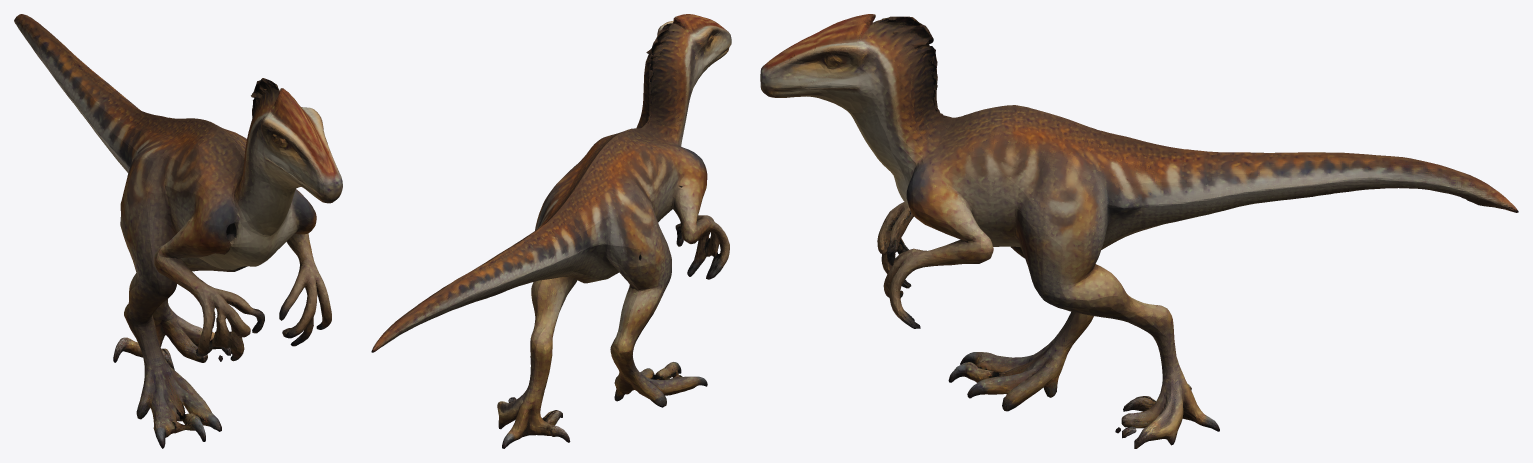
3 views of the same model, side by side, from view 1: azimuth 30°, elevation 25°; view 2: azimuth 150°, elevation 25°; view 3: azimuth 270°, elevation 25° (orthographic). The views are drawn at different scales.
Parts seen in each view (by area): view 1: world; view 2: world; view 3: world.
Boxes of the visible parts, x1,y1,x2,y2 form: world: (14, 14, 342, 448); world: (371, 14, 731, 448); world: (760, 14, 1518, 448).
Size of the model in its own units: 0.756 by 1.75 by 3.
1 material, 1 textured.
